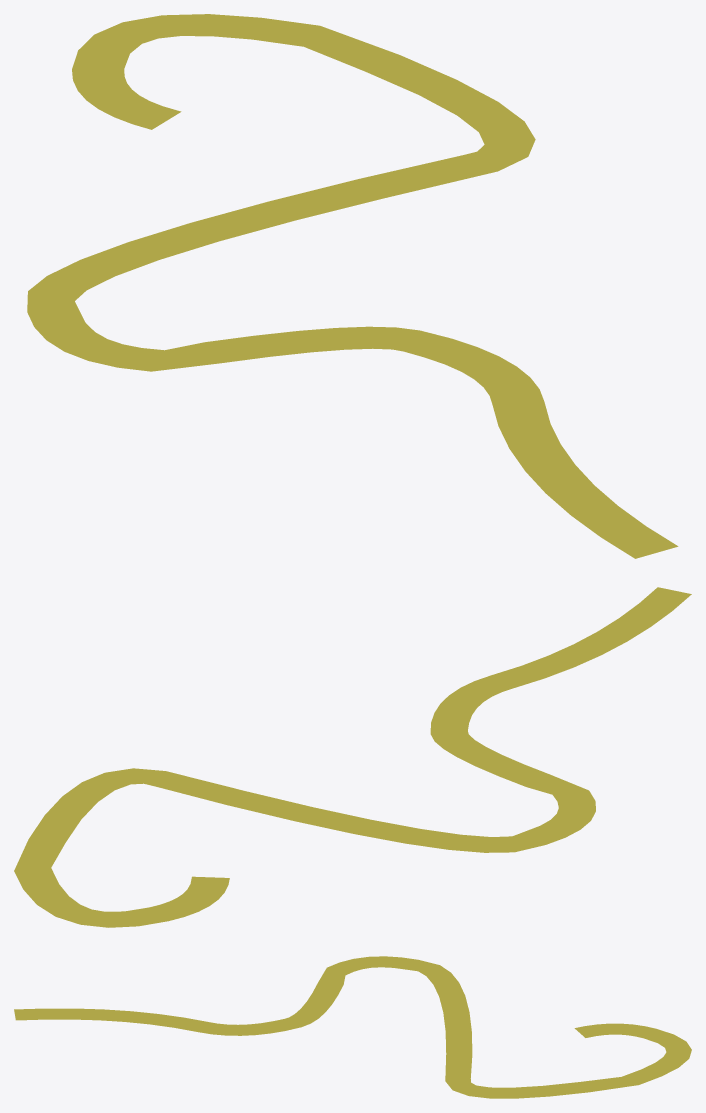
Rendered from Path Mesh 002.fbx.
The picture shows the model from 3 angles, top to bottom: view 1: azimuth 30°, elevation 25°; view 2: azimuth 150°, elevation 25°; view 3: azimuth 270°, elevation 25°; orthographic projection. The views are drawn at different scales.
Visible parts, largest first — view 1: Path_Creator; view 2: Path_Creator; view 3: Path_Creator.
Part boxes in pixels (x1=…): Path_Creator: x1=27, y1=14, x2=678, y2=558; Path_Creator: x1=14, y1=587, x2=691, y2=927; Path_Creator: x1=14, y1=956, x2=691, y2=1098.
Bounding box in the file's own units: 1284 × 7.45e-07 × 2585.
